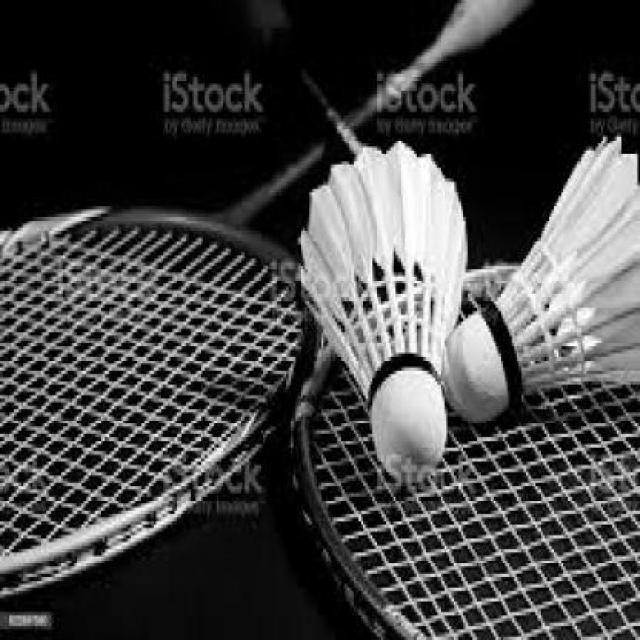Shuttlecock: (446, 134, 640, 420)
